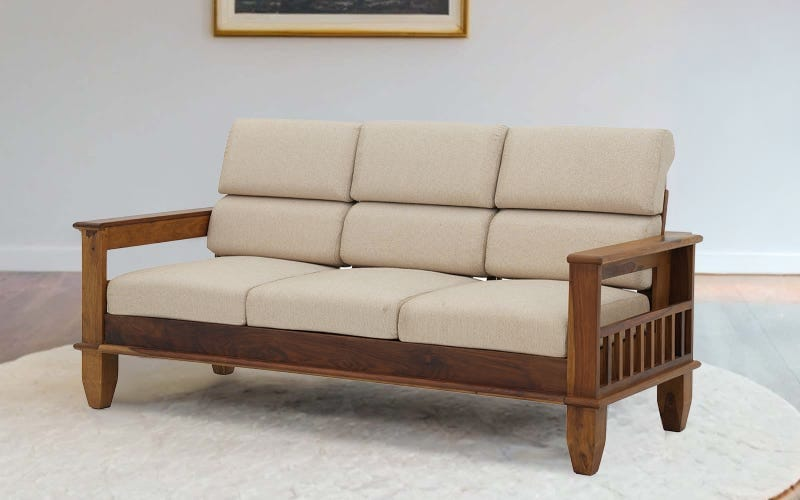3seatersofa: (74, 120, 701, 474)
backrest: (208, 119, 673, 278)
base: (99, 316, 566, 402)
leftarmrest: (567, 232, 701, 278)
leg: (559, 245, 705, 477), (68, 214, 208, 411), (212, 364, 234, 374)
rightarmrest: (73, 208, 210, 249)
seat: (107, 256, 568, 357), (601, 286, 649, 325)
